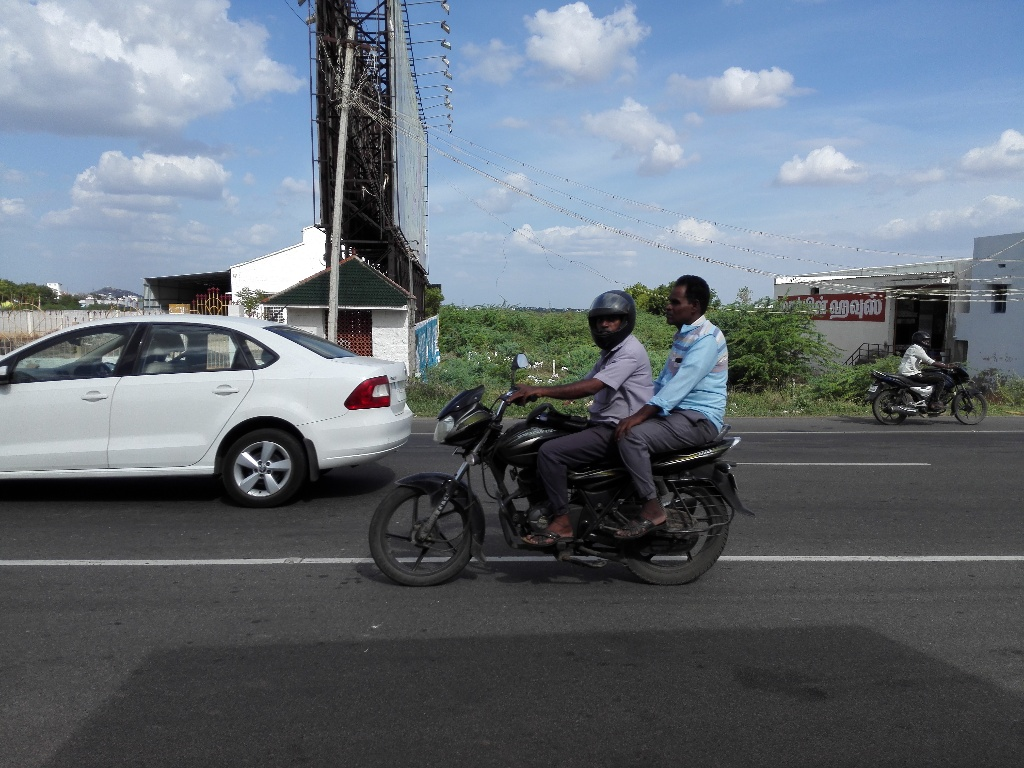biker: (343, 225, 768, 605), (856, 307, 1005, 438)
helmet: (582, 282, 644, 351), (906, 318, 939, 352)
nohelmet: (655, 266, 727, 343)
